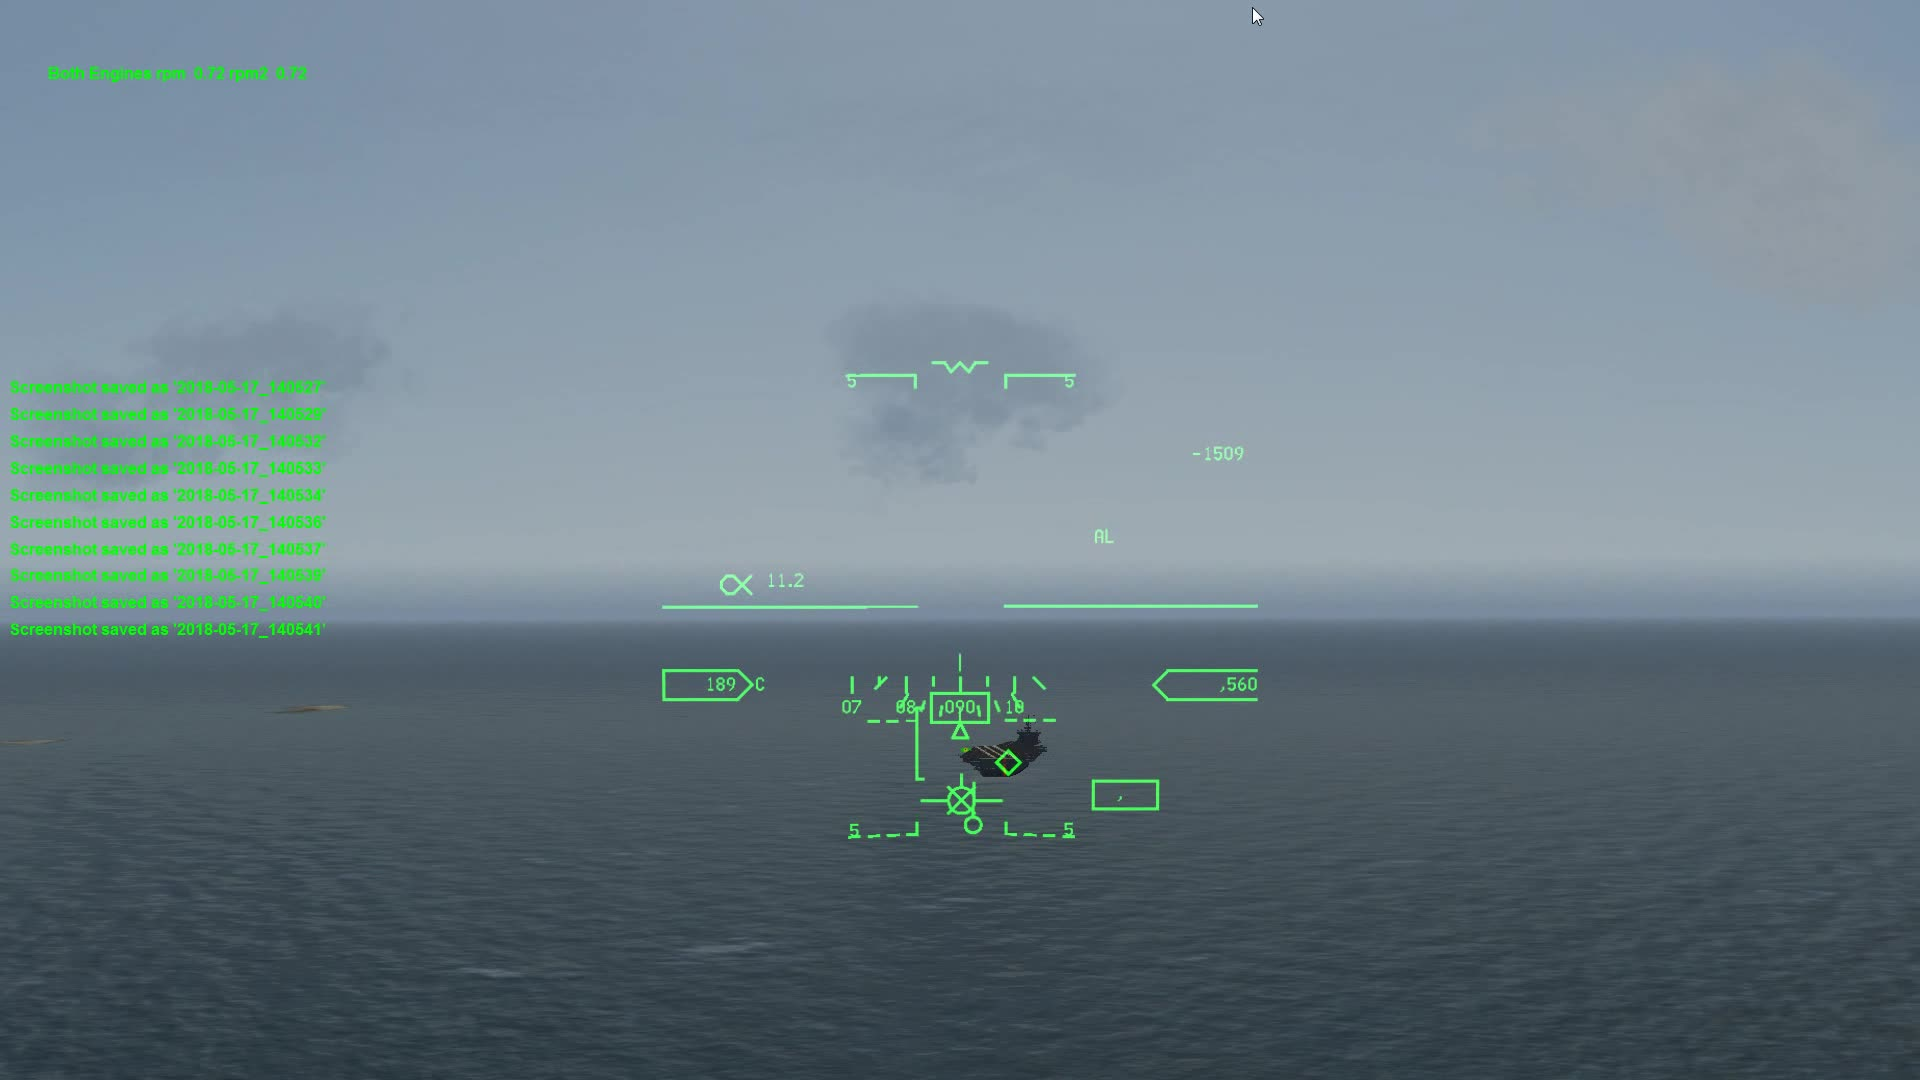speed vector: (913, 767, 1000, 814)
